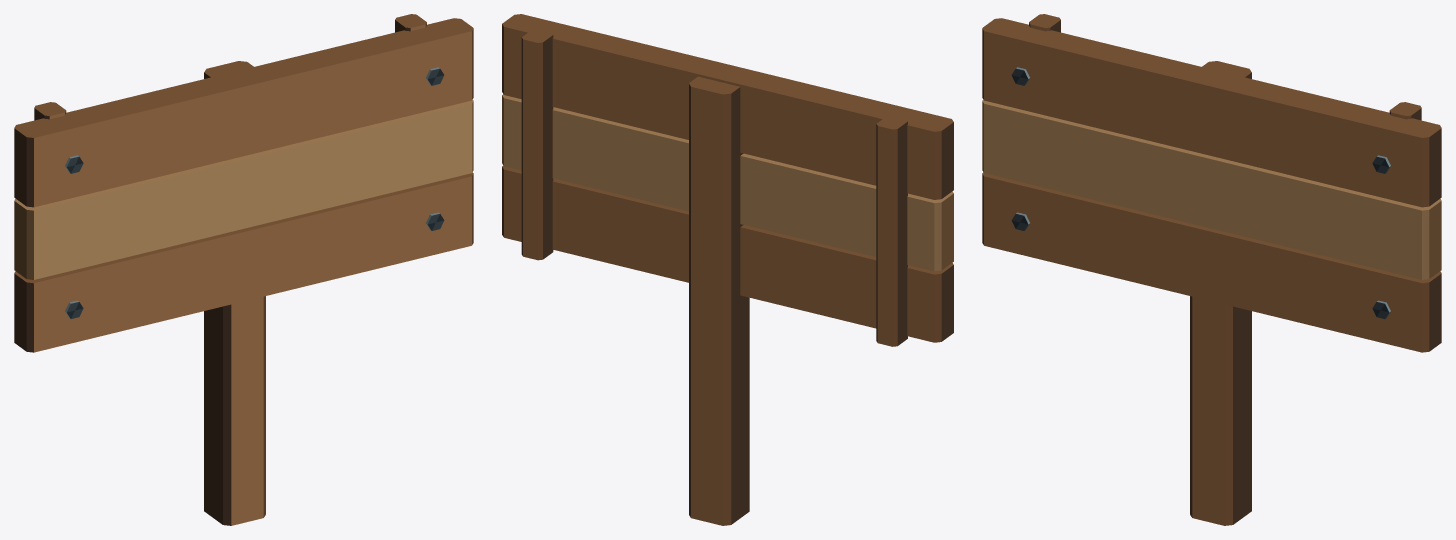
File: sign.fbx
3 renders of one model, left to right at view 1: azimuth 30°, elevation 25°; view 2: azimuth 150°, elevation 25°; view 3: azimuth 330°, elevation 25°, orthographic.
Parts seen in each view (by area): view 1: sign_body; view 2: sign_body; view 3: sign_body.
Boxes of the visible parts, bbox=[...] form: sign_body: bbox=[14, 14, 473, 525]; sign_body: bbox=[502, 14, 953, 525]; sign_body: bbox=[982, 14, 1441, 525].
Size of the model in its own units: 2.9 by 2.76 by 0.37.
1 material, 1 textured.
